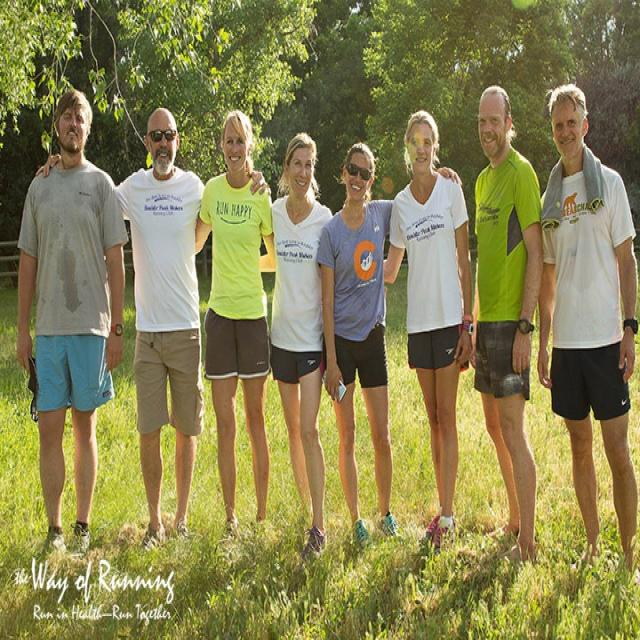body: (34, 106, 272, 562), (314, 140, 464, 563), (14, 85, 129, 567), (535, 81, 639, 603), (378, 108, 474, 557), (466, 83, 546, 572), (195, 109, 276, 543), (268, 131, 338, 572)
